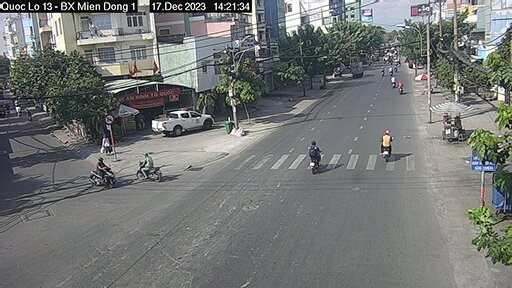car: (152, 110, 217, 137)
motorbike: (135, 154, 168, 184), (89, 163, 117, 187), (377, 129, 395, 159), (307, 139, 323, 172)
